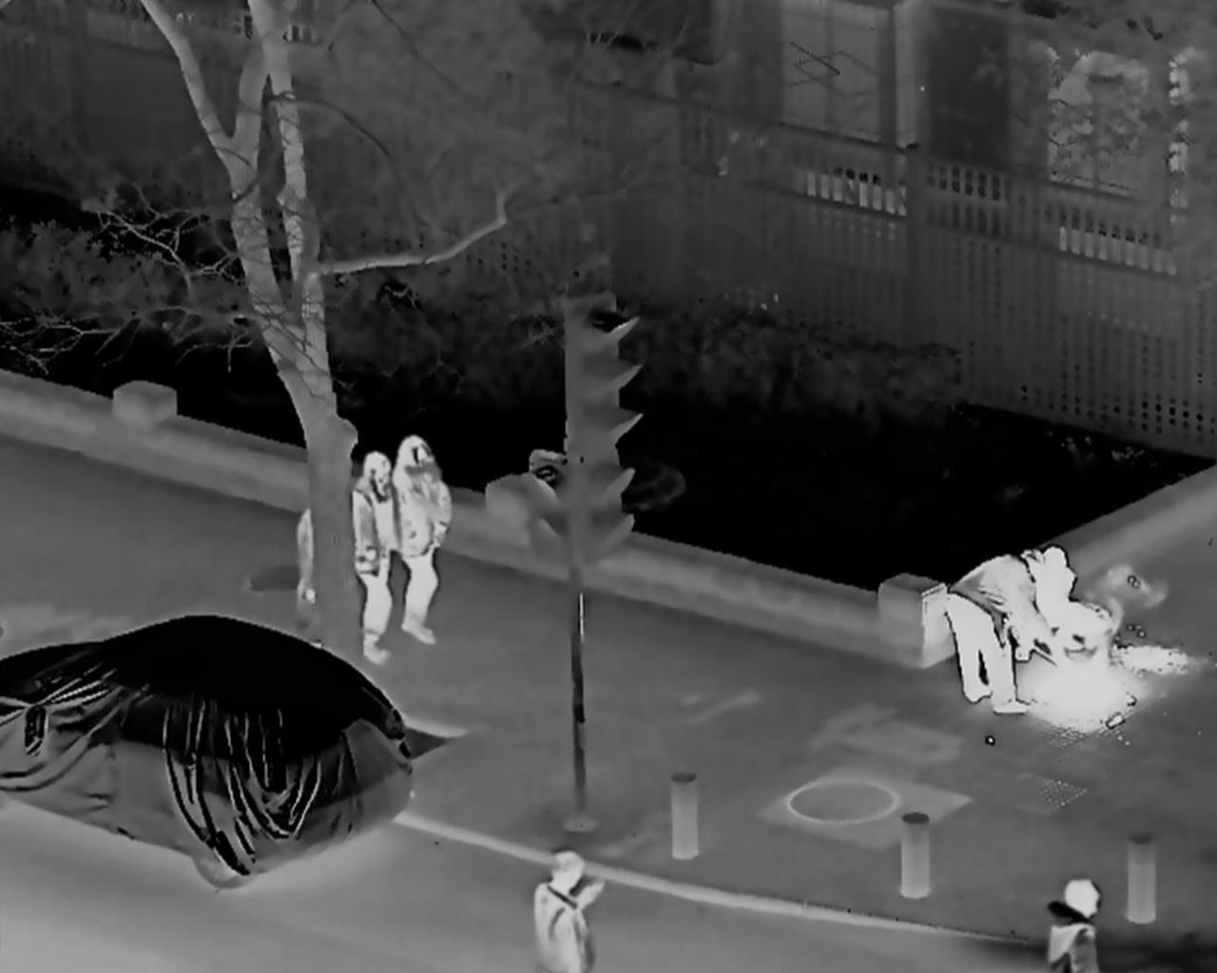person: (949, 544, 1042, 720), (384, 439, 451, 643), (1016, 541, 1113, 660), (350, 448, 400, 664), (526, 849, 604, 973), (1038, 879, 1100, 973)
